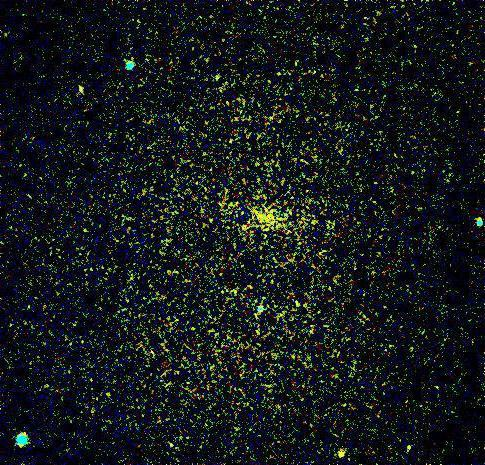star: (327, 440, 357, 465)
